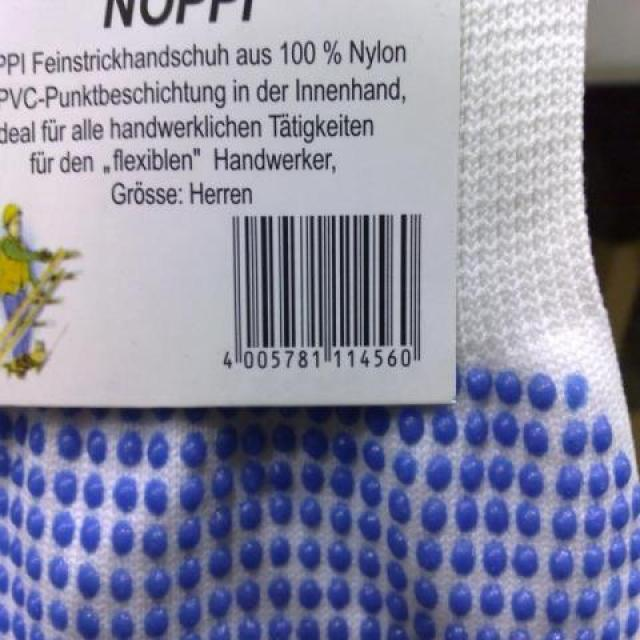Barcode: (220, 210, 432, 378)
